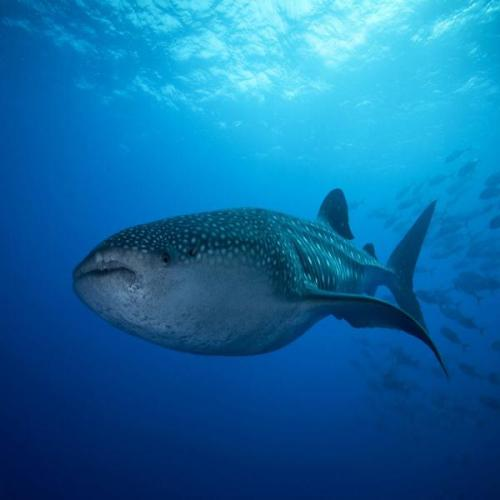shark-endangered: (73, 191, 450, 374)
